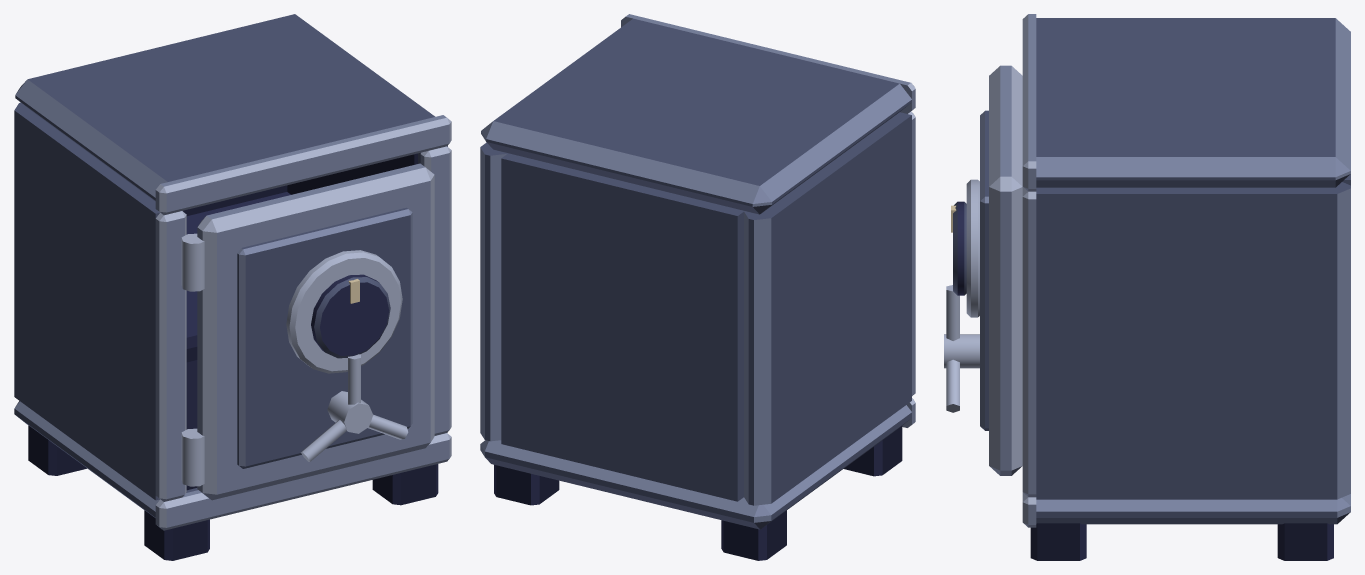
The model's file is Safe.fbx.
3 views of the same model, side by side, from view 1: azimuth 30°, elevation 25°; view 2: azimuth 150°, elevation 25°; view 3: azimuth 270°, elevation 25° (orthographic). The views are drawn at different scales.
Visible parts, largest first — view 1: Safe, Safe_Door; view 2: Safe; view 3: Safe, Safe_Door.
Boxes of the visible parts, x1,y1,x2,y2 form: Safe: (14, 14, 451, 560); Safe_Door: (181, 163, 434, 500); Safe: (480, 14, 915, 560); Safe: (1022, 14, 1350, 560); Safe_Door: (944, 65, 1022, 475).
Bounding box in the file's own units: 3.2 × 3.95 × 3.62.
Materials: 1 (1 with a texture image).
